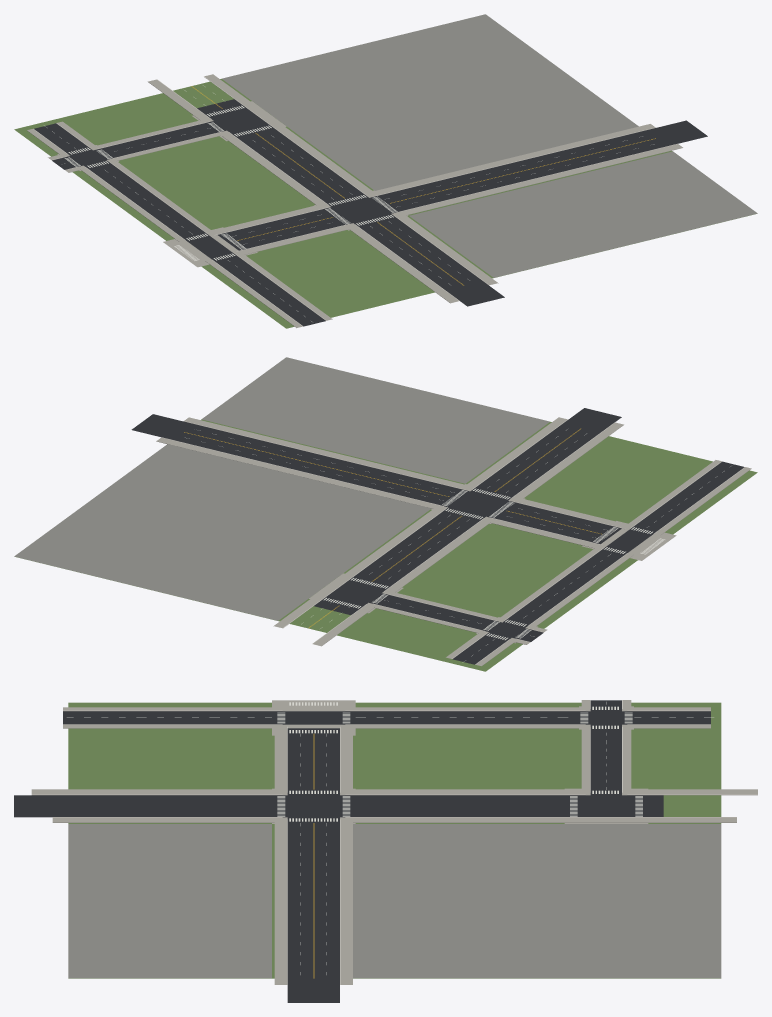
File: Ground_5_1.fbx
3 renders of one model, top to bottom at view 1: azimuth 30°, elevation 25°; view 2: azimuth 150°, elevation 25°; view 3: azimuth 270°, elevation 25°, orthographic. The views are drawn at different scales.
Visible parts, largest first — view 1: Ground_5_1; view 2: Ground_5_1; view 3: Ground_5_1.
Part boxes in pixels (x1,y1,x2,y2): Ground_5_1: (14, 14, 757, 328); Ground_5_1: (14, 357, 757, 671); Ground_5_1: (14, 700, 757, 1002).
Size of the model in its own units: 274 by 0.14 by 285.
